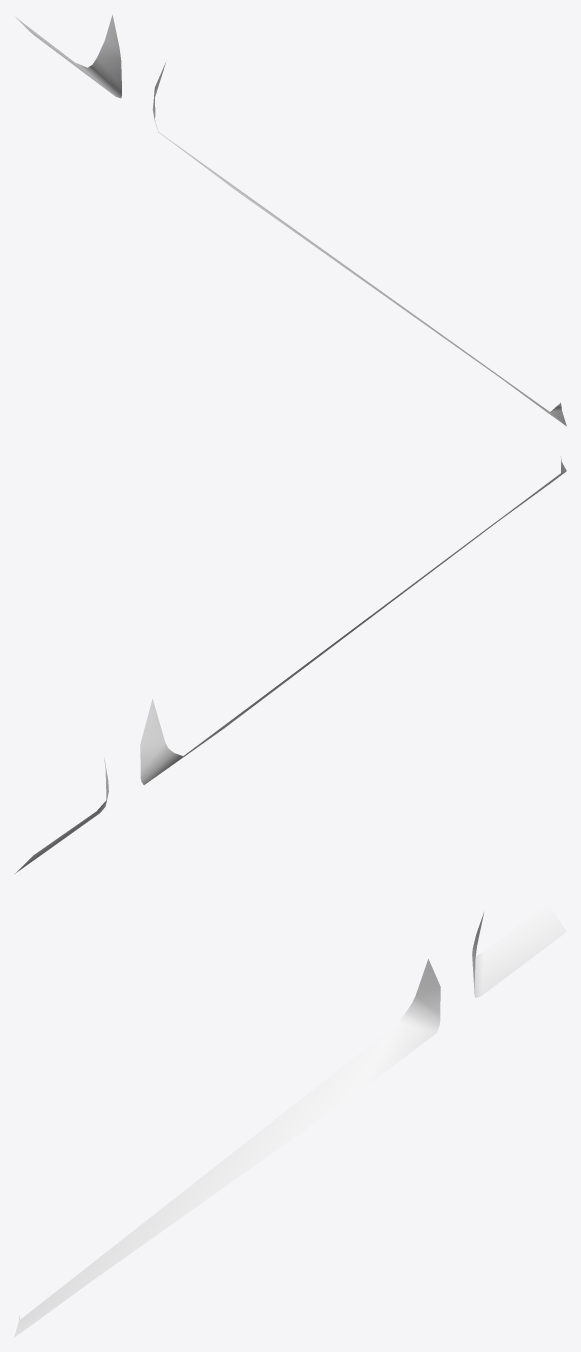
The picture shows the model from 3 angles, top to bottom: view 1: azimuth 30°, elevation 25°; view 2: azimuth 150°, elevation 25°; view 3: azimuth 330°, elevation 25°; orthographic projection. The views are drawn at different scales.
Size of the model in its own units: 0.0191 by 0.0834 by 0.9389.
Materials: 1 (1 with a texture image).
